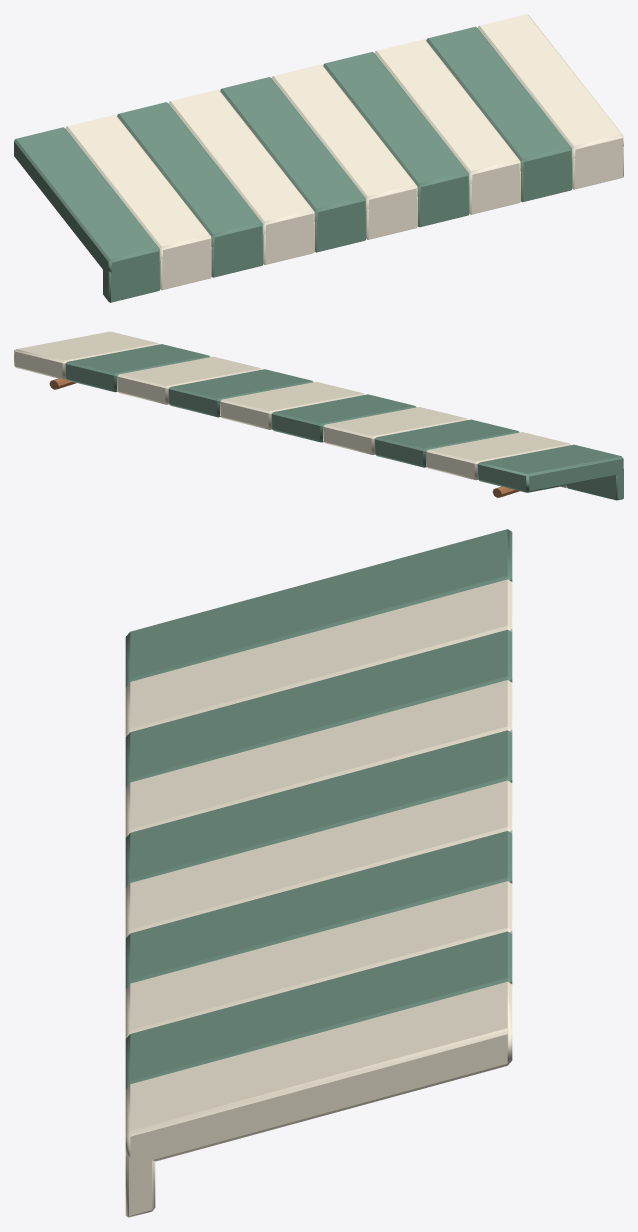
Rendered from 099_striped_awning.fbx.
The picture shows the model from 3 angles, top to bottom: view 1: azimuth 30°, elevation 25°; view 2: azimuth 150°, elevation 25°; view 3: azimuth 270°, elevation 25°; orthographic projection. The views are drawn at different scales.
Parts seen in each view (by area): view 1: LC_099_striped_awning; view 2: LC_099_striped_awning; view 3: LC_099_striped_awning.
Boxes of the visible parts, box(x1,y1,x2,y2) form: LC_099_striped_awning: box(14, 14, 623, 302); LC_099_striped_awning: box(14, 331, 623, 500); LC_099_striped_awning: box(125, 529, 512, 1217).
Size of the model in its own units: 2 by 0.351 by 0.65.
